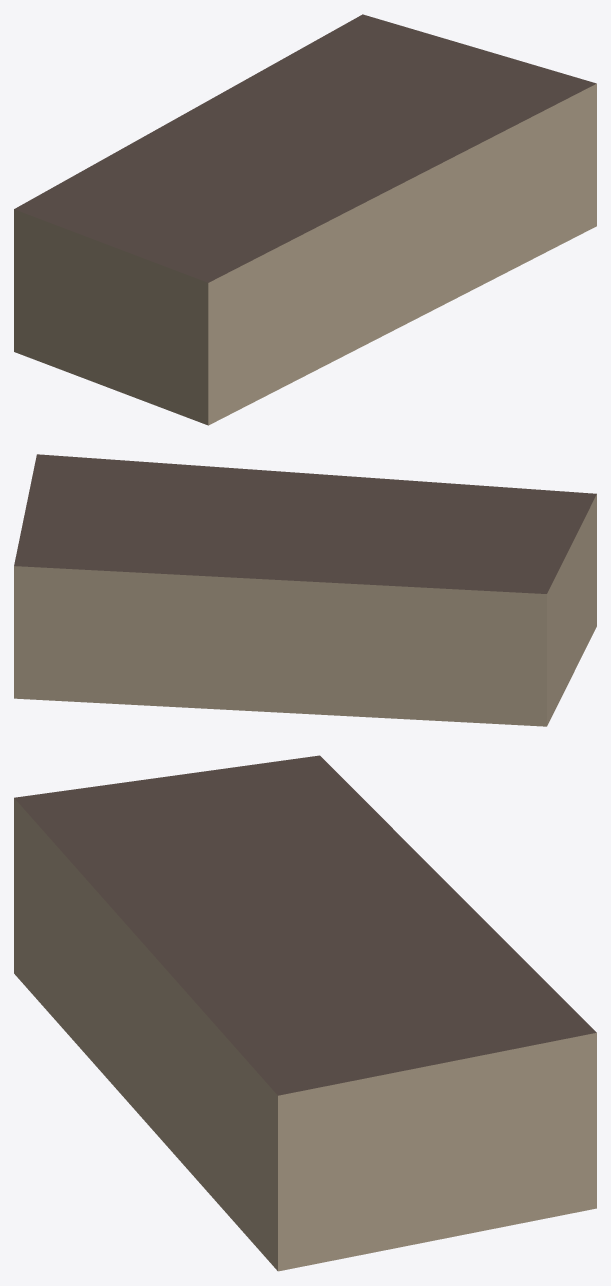
3 views of the same model, one above another, from view 1: azimuth 30°, elevation 25°; view 2: azimuth 150°, elevation 25°; view 3: azimuth 270°, elevation 25° (orthographic). The views are drawn at different scales.
Visible parts, largest first — view 1: HP-w1512914135; view 2: HP-w1512914135; view 3: HP-w1512914135.
Part boxes in pixels (left/top/right/bottom): HP-w1512914135: left=14, top=14, right=596, bottom=425; HP-w1512914135: left=14, top=454, right=596, bottom=726; HP-w1512914135: left=14, top=755, right=596, bottom=1271.
Bounding box in the file's own units: 37.36 × 9 × 27.05.
